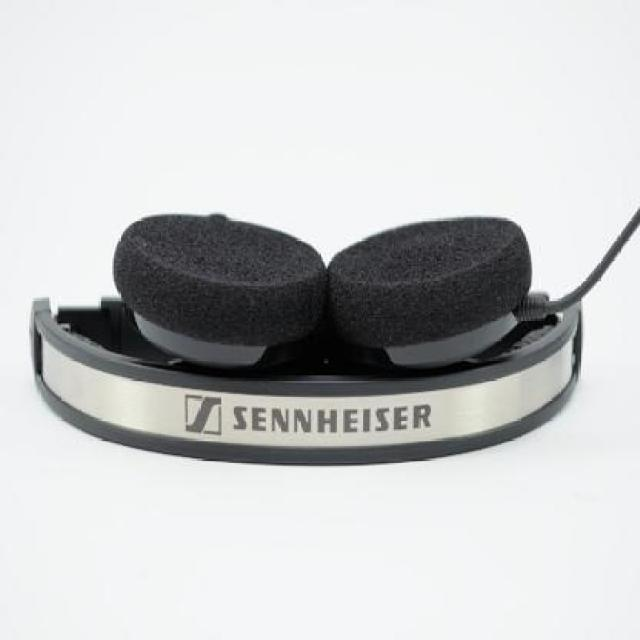earphone: (11, 169, 596, 496)
